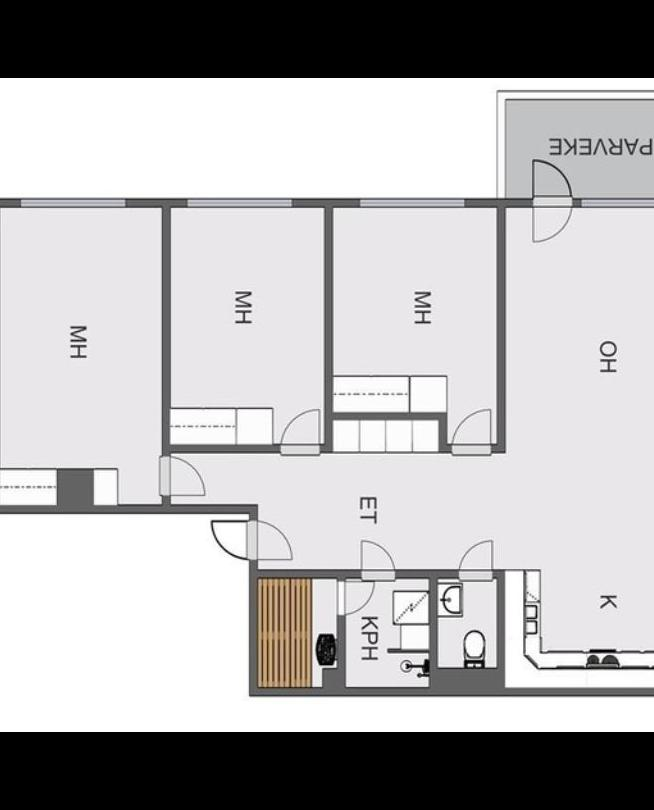bathroom: (432, 571, 497, 672)
door: (277, 406, 324, 465), (450, 404, 498, 459), (204, 516, 258, 564), (157, 454, 207, 500), (528, 196, 572, 248), (456, 534, 496, 588), (356, 536, 398, 584), (248, 517, 292, 562), (531, 160, 572, 206), (332, 576, 376, 617)
perimeter: (0, 197, 654, 696)
window: (11, 194, 135, 214), (178, 193, 300, 212), (352, 193, 470, 212), (573, 194, 654, 209)
